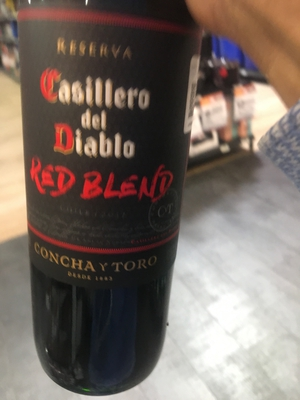casillero del diablo red blend: (18, 6, 198, 388)
